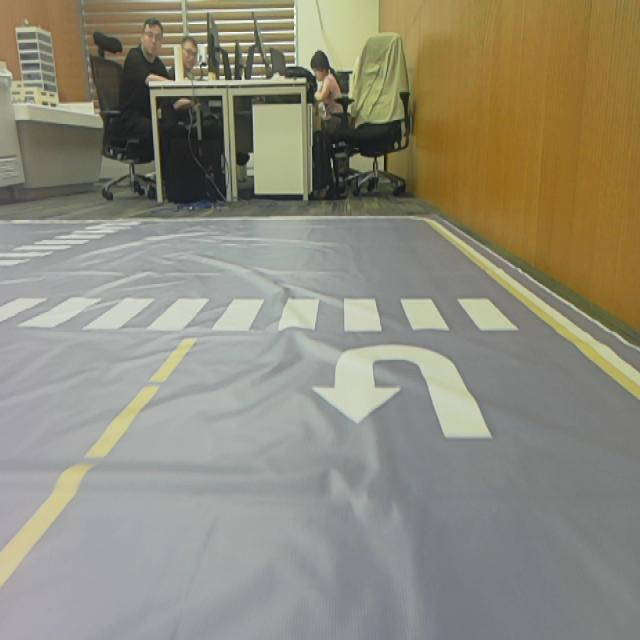left_lane: (0, 339, 195, 588)
right_lane: (426, 219, 640, 402)
